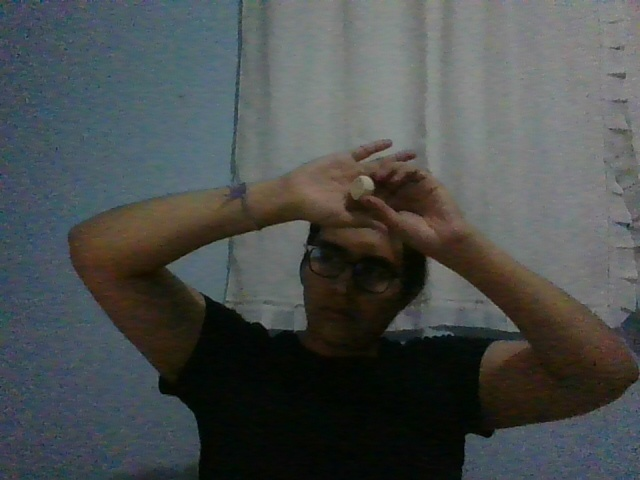goma: (350, 175, 375, 200)
